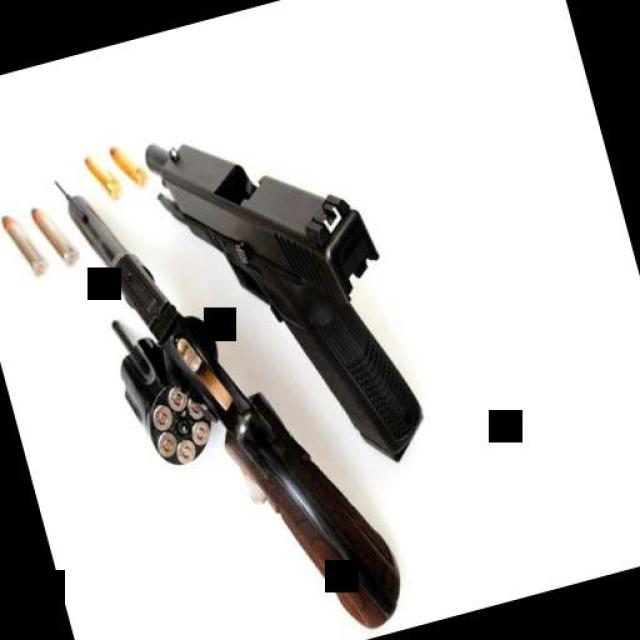gun: (48, 116, 408, 640), (138, 90, 432, 505)
